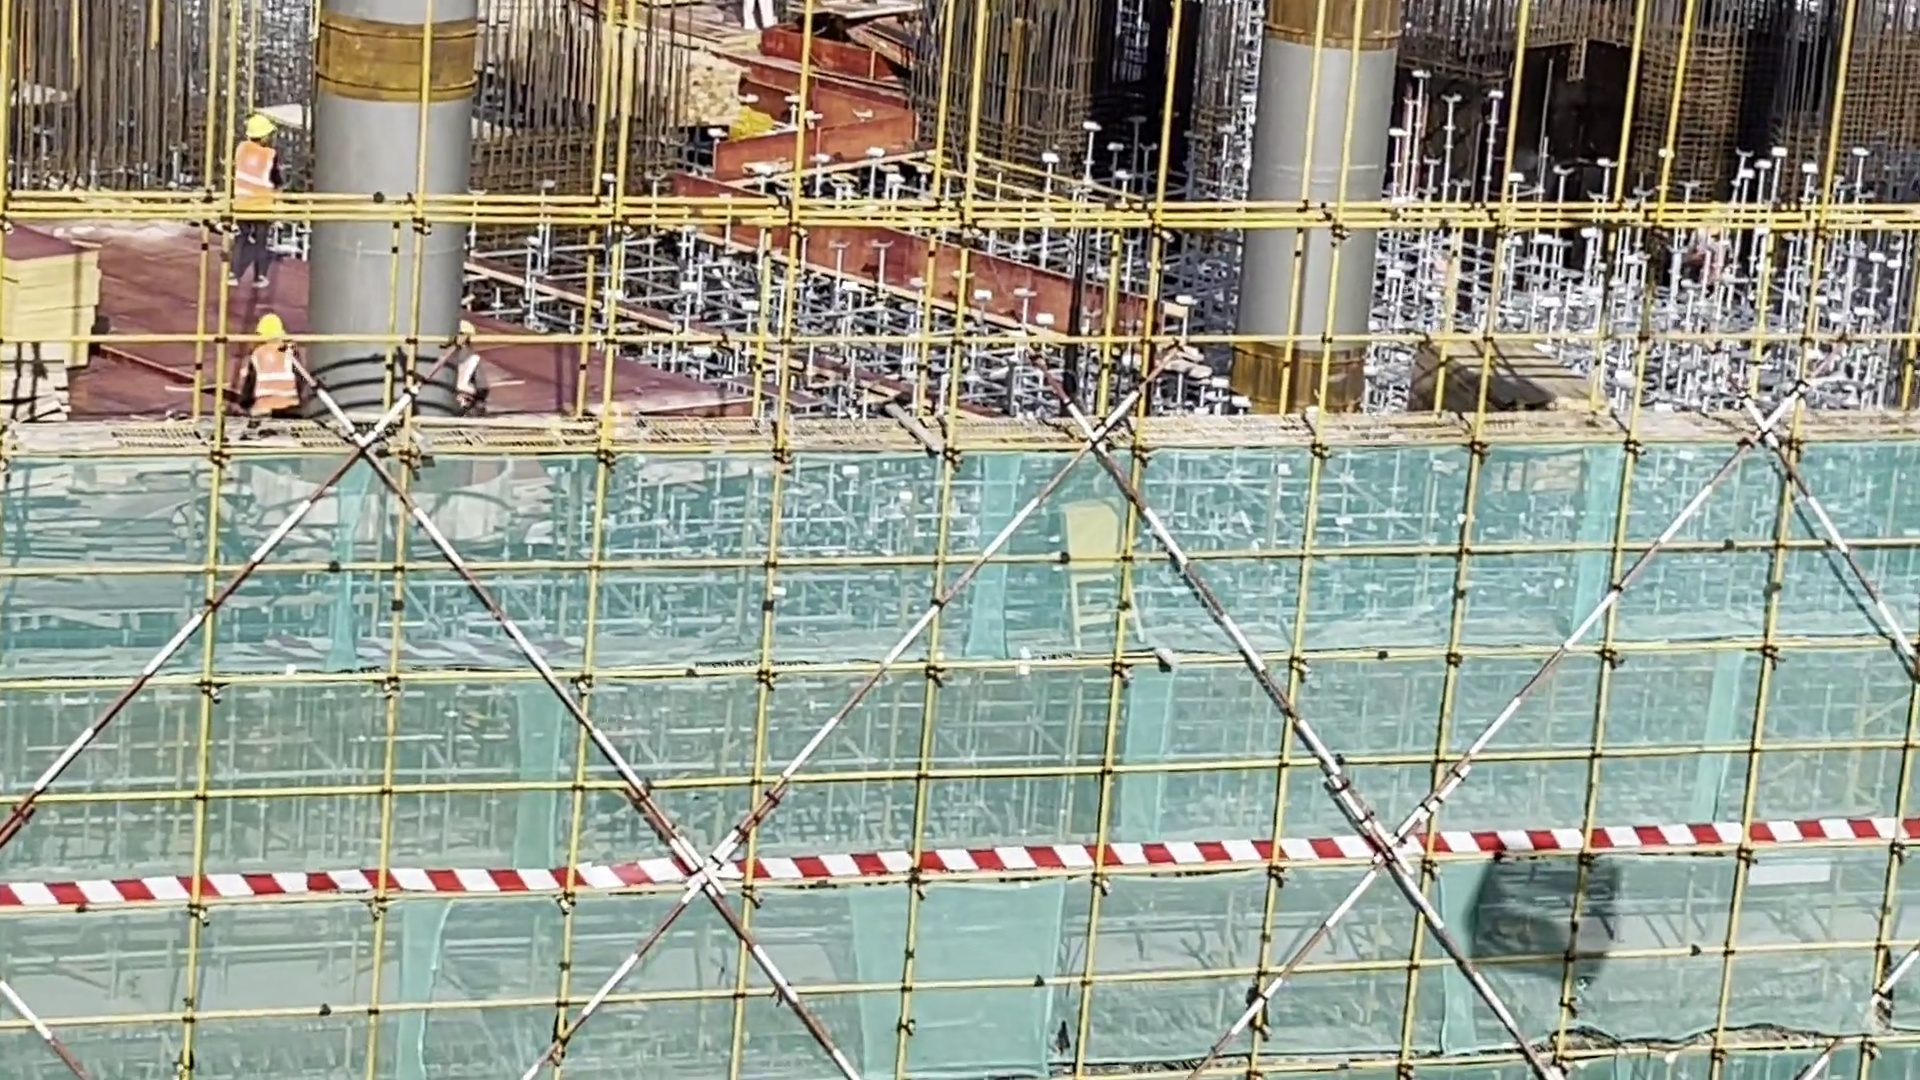board: (1, 208, 116, 401), (1384, 340, 1602, 431)
ebox: (1051, 482, 1152, 655)
helmet: (241, 111, 283, 149), (252, 315, 286, 343)
person: (230, 109, 290, 297), (237, 304, 312, 440), (437, 313, 507, 430)
vest: (239, 335, 303, 421), (236, 143, 283, 205)
wood: (1, 349, 66, 428)
